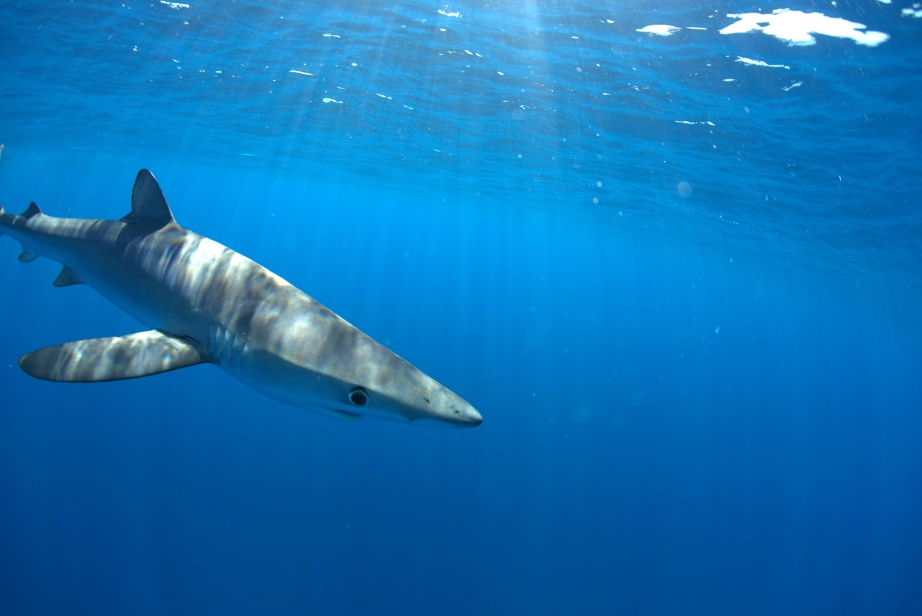Azul: (1, 134, 500, 470)
